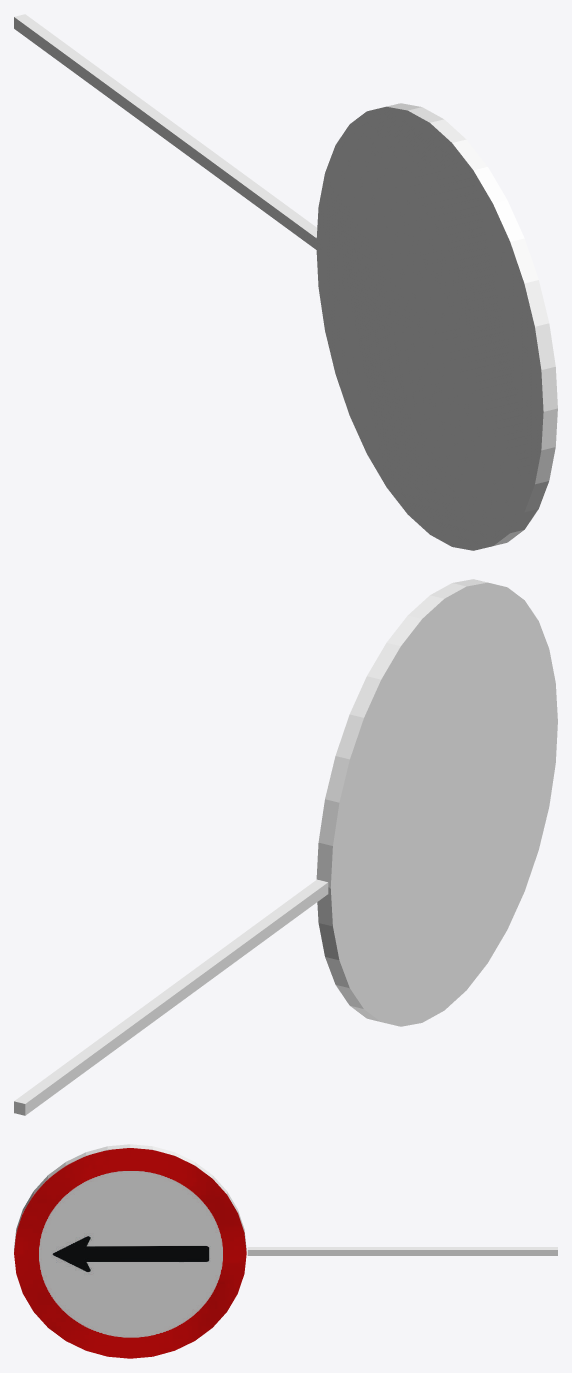
Rendered from frente.obj.
3 views of the same model, one above another, from view 1: azimuth 30°, elevation 25°; view 2: azimuth 150°, elevation 25°; view 3: azimuth 270°, elevation 25° (orthographic). The views are drawn at different scales.
Parts seen in each view (by area): view 1: Placa_em_frente_frente; view 2: Placa_em_frente_frente; view 3: Placa_em_frente_frente.
Part boxes in pixels (x1=…): Placa_em_frente_frente: x1=14, y1=14, x2=557, y2=550; Placa_em_frente_frente: x1=14, y1=579, x2=557, y2=1115; Placa_em_frente_frente: x1=14, y1=1144, x2=557, y2=1358.
Bounding box in the file's own units: 0.011 × 0.3 × 0.7012.
1 material, 1 textured.
